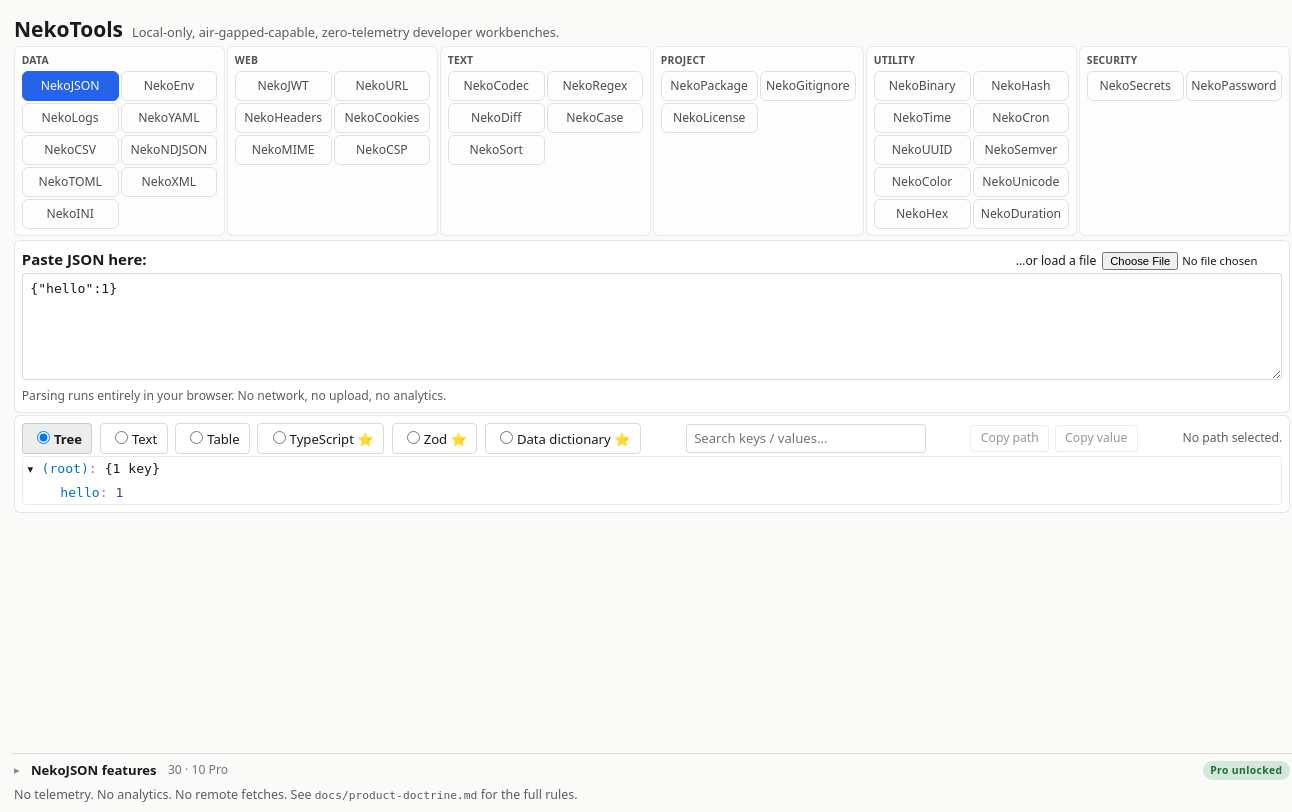
Scenario: App integration › switches to the text view when the user picks "Text"
Click the radio button labelled "Text": (122, 437) [115, 431, 128, 444]
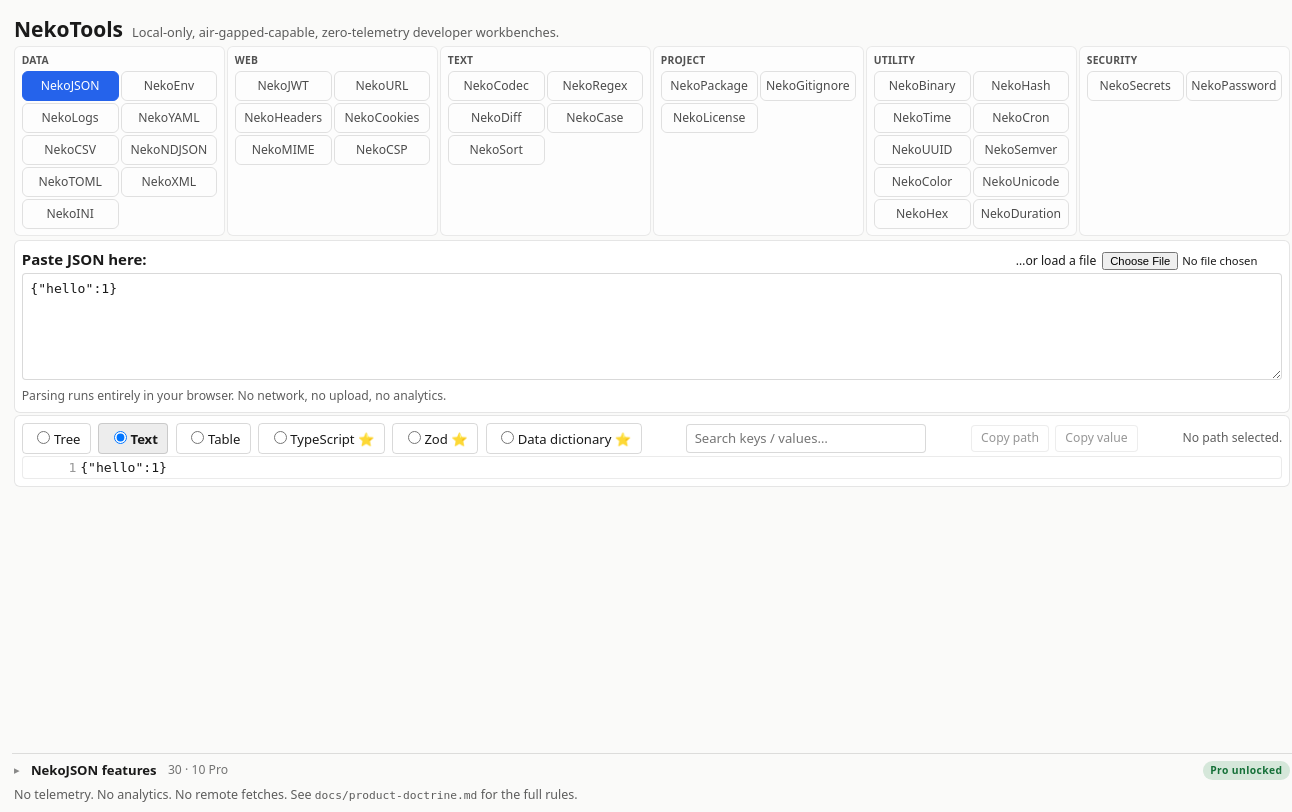
Now the element named "JSON text view" is shown, box [22, 456, 1282, 479]
